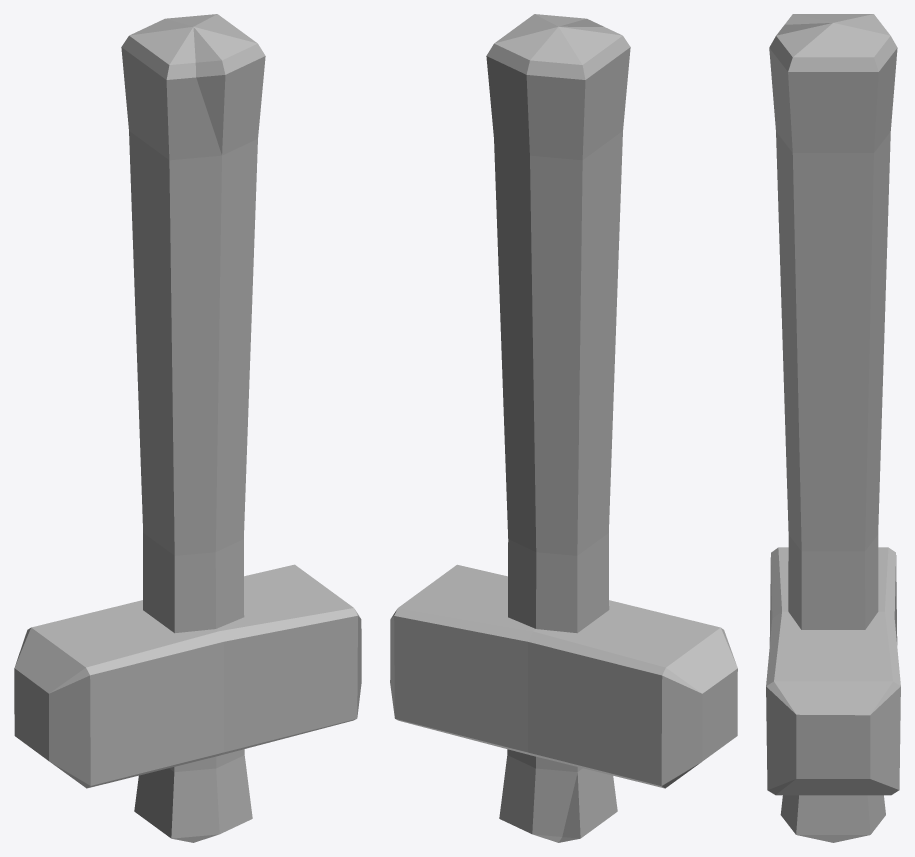
The model's file is PT_Hammer_01.fbx.
3 renders of one model, left to right at view 1: azimuth 30°, elevation 25°; view 2: azimuth 150°, elevation 25°; view 3: azimuth 270°, elevation 25°, orthographic.
Visible parts, largest first — view 1: PT_Hammer_01; view 2: PT_Hammer_01; view 3: PT_Hammer_01.
Part boxes in pixels (bbox=[...]): PT_Hammer_01: bbox=[14, 14, 361, 842]; PT_Hammer_01: bbox=[390, 14, 737, 842]; PT_Hammer_01: bbox=[766, 14, 900, 842].
Size of the model in its own units: 16.01 by 40.04 by 5.97.
1 material, 1 textured.
